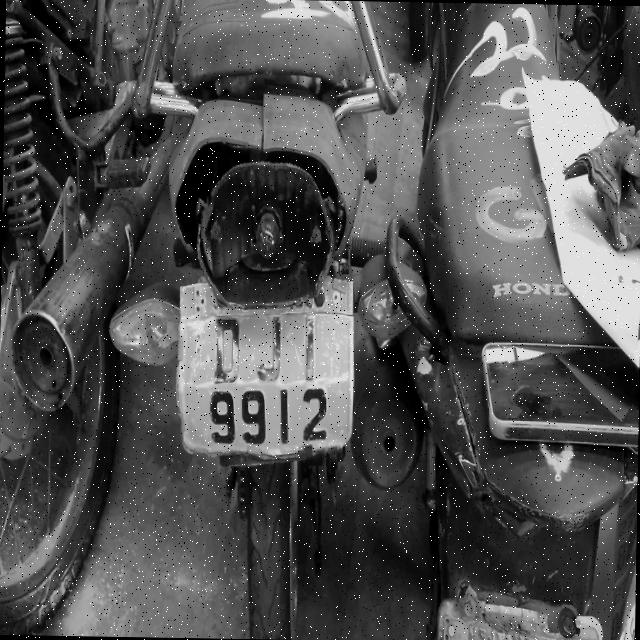Caractere: (212, 316, 242, 386), (255, 314, 283, 382), (208, 388, 238, 448), (240, 387, 268, 447), (302, 385, 328, 442), (303, 314, 315, 383), (278, 386, 290, 446)
Placa: (175, 270, 356, 456)
